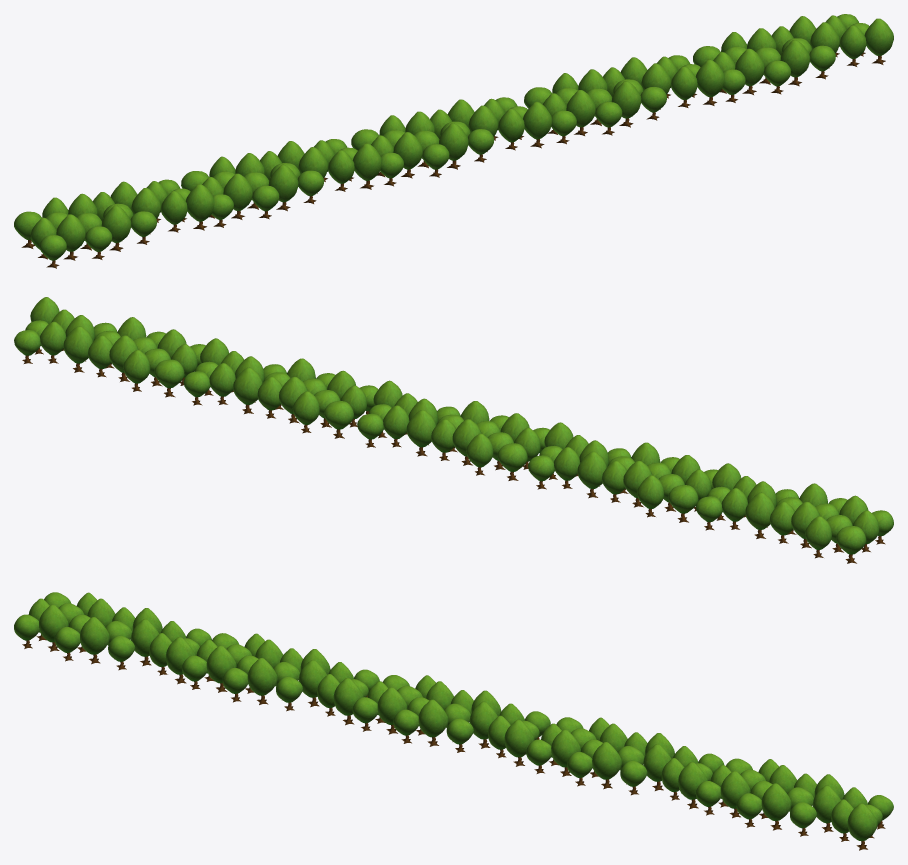
File: TreeCluster01.fbx
3 renders of one model, top to bottom at view 1: azimuth 30°, elevation 25°; view 2: azimuth 150°, elevation 25°; view 3: azimuth 330°, elevation 25°, orthographic.
Parts seen in each view (by area): view 1: Tree.018, Tree.098, Tree.058, Tree.038, Tree.078, Tree.069, Tree.044, Tree.089, Tree.064, Tree.004, Tree.084, Tree.009 (+28 smaller); view 2: Tree.048, Tree.068, Tree.088, Tree.028, Tree.008, Tree.054, Tree.074, Tree.014, Tree.034, Tree.039, Tree.094, Tree.019 (+30 smaller); view 3: Tree.004, Tree.024, Tree.084, Tree.064, Tree.098, Tree.044, Tree.018, Tree.058, Tree.009, Tree.049, Tree.089, Tree.069 (+28 smaller).
Boxes of the visible parts, box(x1,y1,x2,y2) form: Tree.018: box(523, 102, 552, 148); Tree.098: box(864, 18, 893, 64); Tree.058: box(352, 143, 381, 189); Tree.038: box(695, 59, 724, 105); Tree.078: box(185, 184, 214, 230); Tree.069: box(56, 214, 85, 260); Tree.044: box(268, 164, 298, 211); Tree.089: box(735, 48, 764, 94); Tree.064: box(101, 205, 131, 251); Tree.004: box(439, 123, 468, 169); Tree.084: box(780, 40, 810, 86); Tree.009: box(393, 132, 422, 178); Tree.048: box(577, 451, 606, 498); Tree.068: box(745, 492, 774, 538); Tree.088: box(63, 326, 92, 372); Tree.028: box(233, 367, 262, 413); Tree.008: box(406, 410, 435, 456); Tree.054: box(637, 475, 664, 517); Tree.074: box(805, 516, 831, 558); Tree.014: box(466, 433, 493, 475); Tree.034: box(292, 391, 319, 433); Tree.039: box(324, 401, 353, 438); Tree.094: box(123, 350, 150, 391); Tree.019: box(497, 443, 527, 480); Tree.004: box(418, 699, 448, 746); Tree.024: box(592, 742, 621, 789); Tree.084: box(761, 783, 791, 830); Tree.064: box(80, 617, 109, 664); Tree.098: box(847, 803, 877, 850); Tree.044: box(247, 658, 277, 704); Tree.018: box(504, 719, 534, 766); Tree.058: box(333, 678, 363, 725); Tree.009: box(377, 687, 407, 734); Tree.049: box(206, 645, 236, 692); Tree.089: box(720, 771, 750, 818); Tree.069: box(39, 604, 68, 651).
Size of the model in its own units: 60609 by 2965 by 5584.
